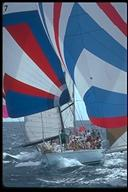sailboat: (3, 3, 127, 166)
water: (4, 167, 126, 187)
